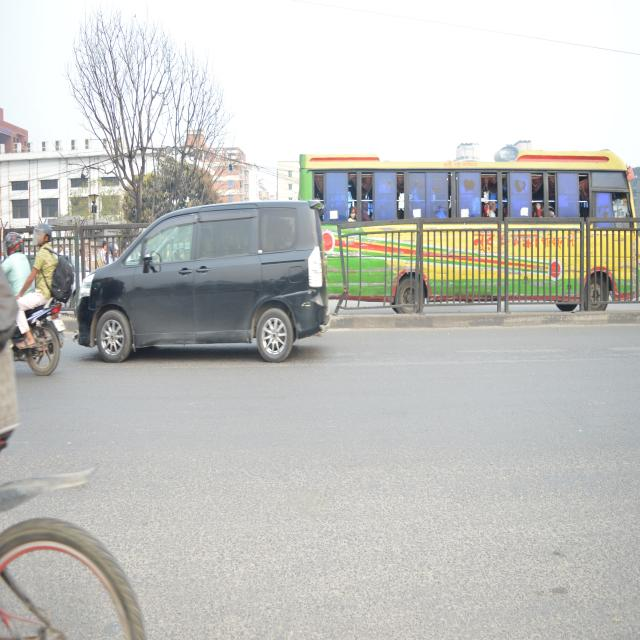bus: (298, 150, 640, 312)
microbus: (82, 202, 330, 368)
